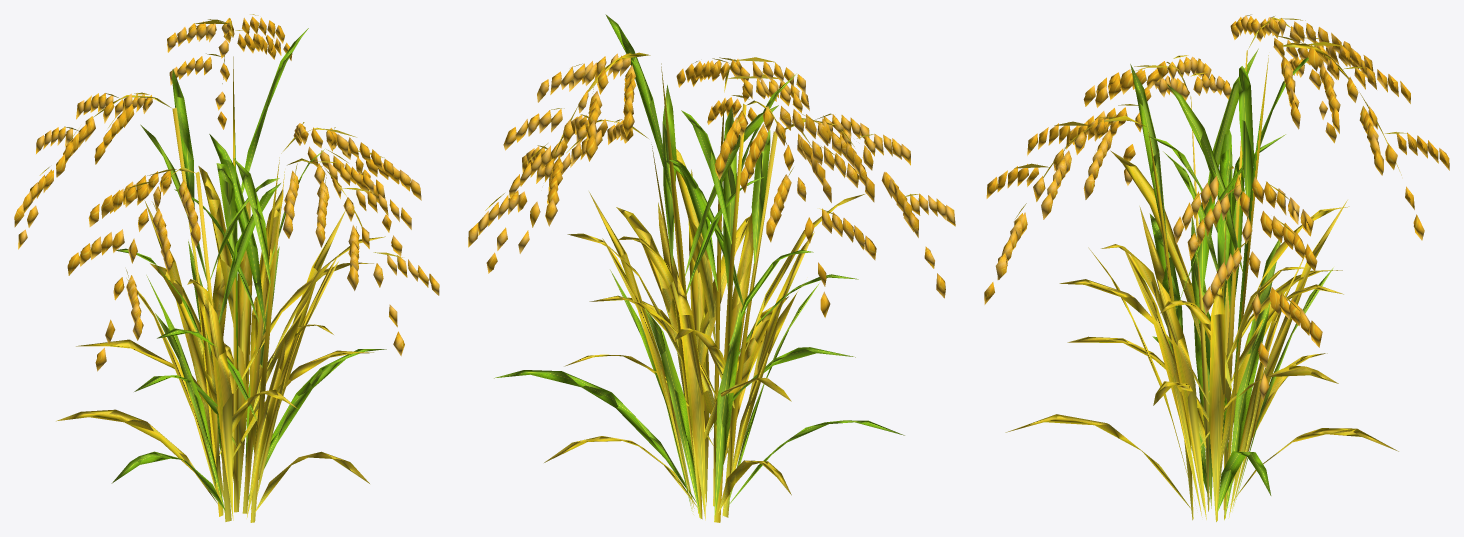
The model's file is NP_Rice_Ready_LOD1.fbx.
The picture shows the model from 3 angles, left to right: view 1: azimuth 30°, elevation 25°; view 2: azimuth 150°, elevation 25°; view 3: azimuth 270°, elevation 25°; orthographic projection. The views are drawn at different scales.
Parts seen in each view (by area): view 1: NP_Rice_Ready; view 2: NP_Rice_Ready; view 3: NP_Rice_Ready.
Part boxes in pixels (left/top/right/bottom): NP_Rice_Ready: left=14, top=14, right=439, bottom=522; NP_Rice_Ready: left=468, top=14, right=955, bottom=522; NP_Rice_Ready: left=984, top=14, right=1449, bottom=521.
Size of the model in its own units: 98.08 by 115 by 97.47.
